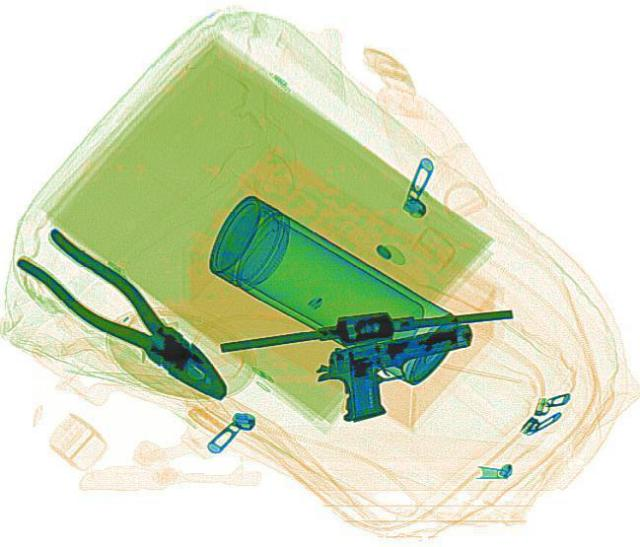Gun: (306, 322, 488, 425)
Pliers: (6, 222, 248, 413)
